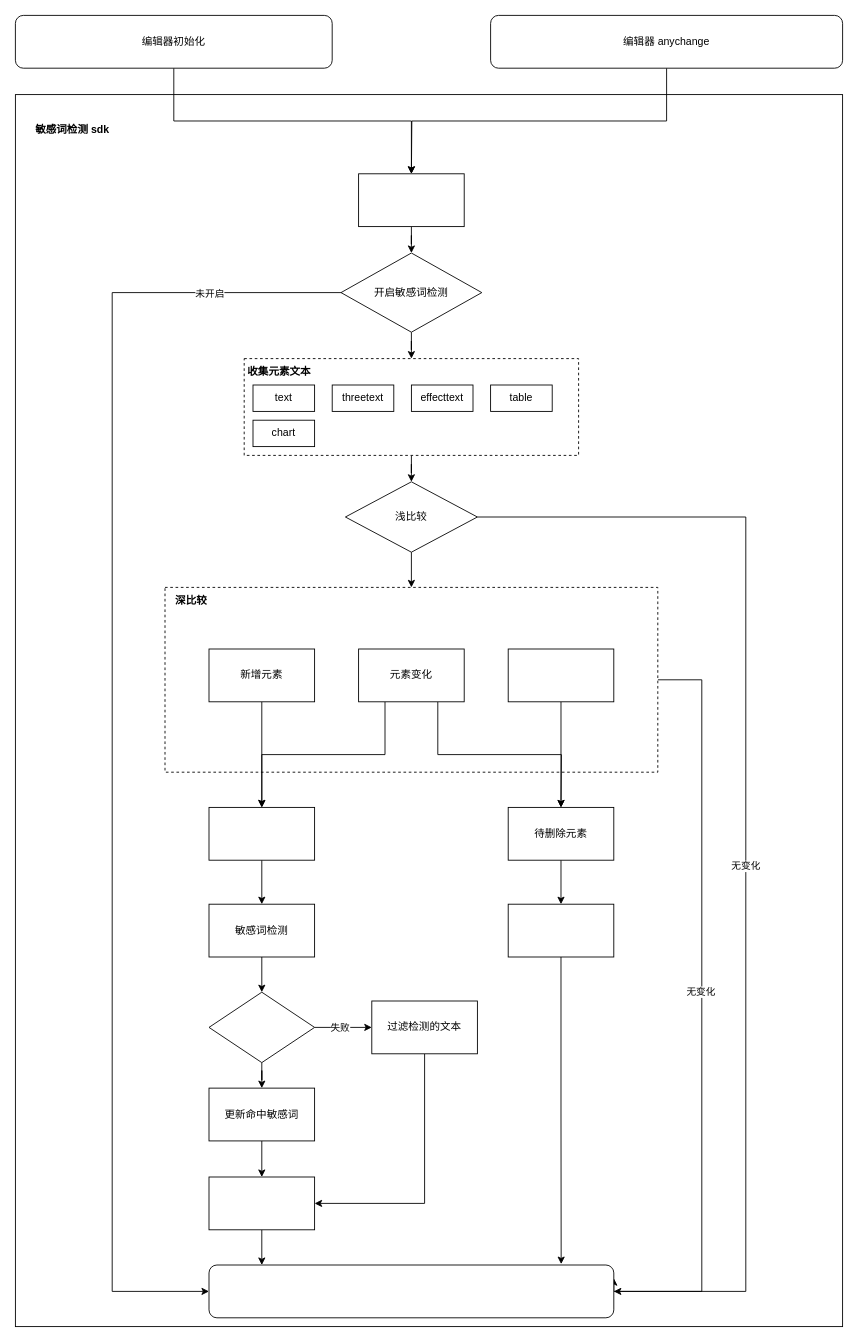
This 858x1342 diagram has some shape labels left out. The shapes that lost their labels are listed below. From the top down, each one's centre as x and y in pixels, then its label:
[411,200]: 检测主入口
[560,675]: 删除元素
[261,833]: 待检测元素
[560,930]: 删除包含敏感词元素
[261,1027]: 接口请求成功
[261,1203]: 更新上一次检测文本
[411,1291]: 结束
